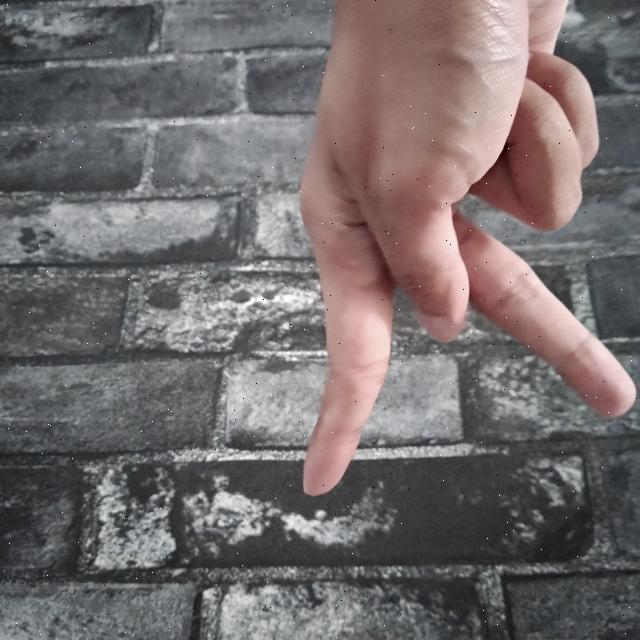P: (293, 0, 640, 499)
